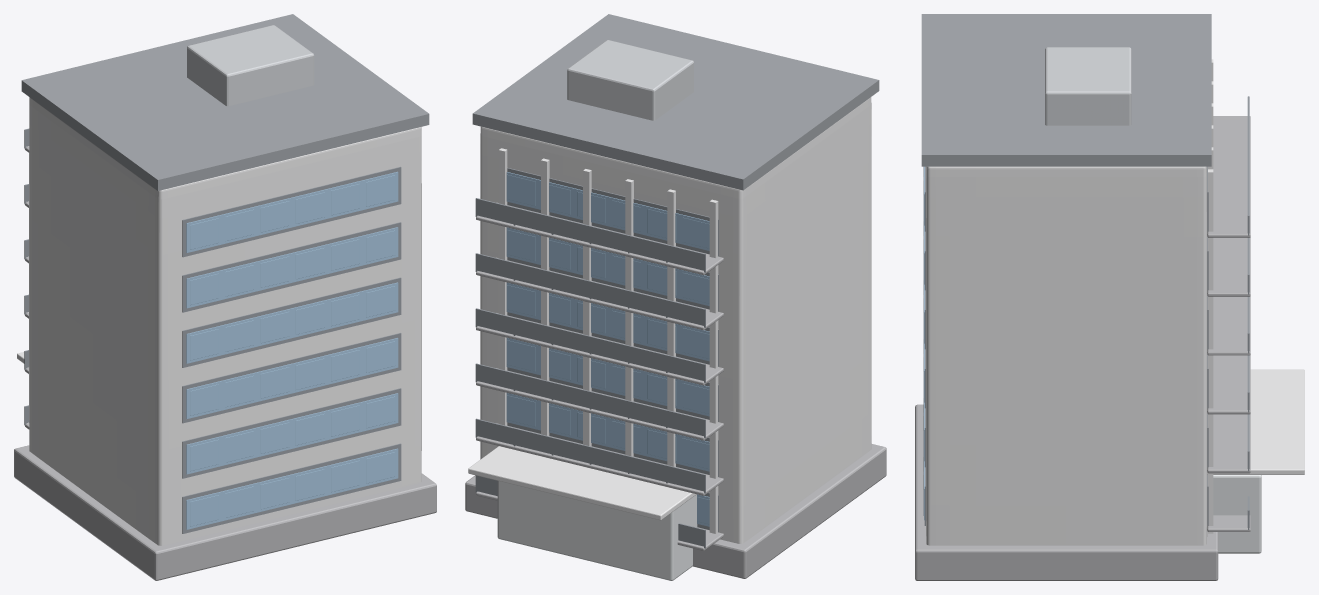
File: office_b.glb
3 views of the same model, side by side, from view 1: azimuth 30°, elevation 25°; view 2: azimuth 150°, elevation 25°; view 3: azimuth 270°, elevation 25° (orthographic). The views are drawn at different scales.
Visible parts, largest first — view 1: BodyB, RoofB, BaseB, MechB, WinB_B_1, WinB_B_3, WinB_B_4, WinB_B_5, WinB_B_2, WinB_B_0, WinFrB_B_5, WinFrB_B_0 (+40 smaller); view 2: BodyB, RoofB, LobbyB, BaseB, MechB, CanopyB, BRail1_B_2, BRail1_B_3, BRail1_B_4, BRail1_B_5, BRail1_B_1, Fin_B_0 (+46 smaller); view 3: BodyB, RoofB, BaseB, MechB, CanopyB, Balcony_B_5, LobbyB, Balcony_B_1, Balcony_B_2, Balcony_B_4, Balcony_B_3, Fin_B_5 (+1 smaller).
Boxes of the visible parts, x1=… form: BodyB: x1=29, y1=97, x2=421, y2=545; RoofB: x1=21, y1=14, x2=429, y2=190; BaseB: x1=14, y1=445, x2=436, y2=580; MechB: x1=187, y1=25, x2=314, y2=106; WinB_B_1: x1=186, y1=393, x2=398, y2=474; WinB_B_3: x1=186, y1=282, x2=398, y2=363; WinB_B_4: x1=186, y1=227, x2=398, y2=308; WinB_B_5: x1=186, y1=171, x2=398, y2=252; WinB_B_2: x1=186, y1=338, x2=398, y2=418; WinB_B_0: x1=186, y1=448, x2=398, y2=529; WinFrB_B_5: x1=182, y1=166, x2=401, y2=257; WinFrB_B_0: x1=182, y1=443, x2=401, y2=533; BodyB: x1=480, y1=97, x2=871, y2=543; RoofB: x1=472, y1=14, x2=879, y2=190; LobbyB: x1=497, y1=481, x2=697, y2=580; BaseB: x1=465, y1=444, x2=886, y2=578; MechB: x1=567, y1=40, x2=693, y2=120; CanopyB: x1=468, y1=446, x2=696, y2=520; BRail1_B_2: x1=476, y1=363, x2=704, y2=436; BRail1_B_3: x1=476, y1=308, x2=704, y2=381; BRail1_B_4: x1=476, y1=253, x2=704, y2=325; BRail1_B_5: x1=476, y1=198, x2=704, y2=270; BRail1_B_1: x1=476, y1=419, x2=704, y2=491; Fin_B_0: x1=709, y1=199, x2=718, y2=533; BodyB: x1=926, y1=166, x2=1207, y2=545; RoofB: x1=921, y1=14, x2=1211, y2=166; BaseB: x1=915, y1=404, x2=1218, y2=580; MechB: x1=1045, y1=47, x2=1131, y2=125; CanopyB: x1=1207, y1=369, x2=1304, y2=474; Balcony_B_5: x1=1207, y1=116, x2=1250, y2=237; LobbyB: x1=1213, y1=475, x2=1261, y2=553; Balcony_B_1: x1=1207, y1=414, x2=1250, y2=473; Balcony_B_2: x1=1207, y1=355, x2=1250, y2=414; Balcony_B_4: x1=1207, y1=237, x2=1250, y2=296; Balcony_B_3: x1=1207, y1=296, x2=1250, y2=355; Fin_B_5: x1=1208, y1=169, x2=1213, y2=533.
Size of the model in its own units: 16 by 23.3 by 18.
